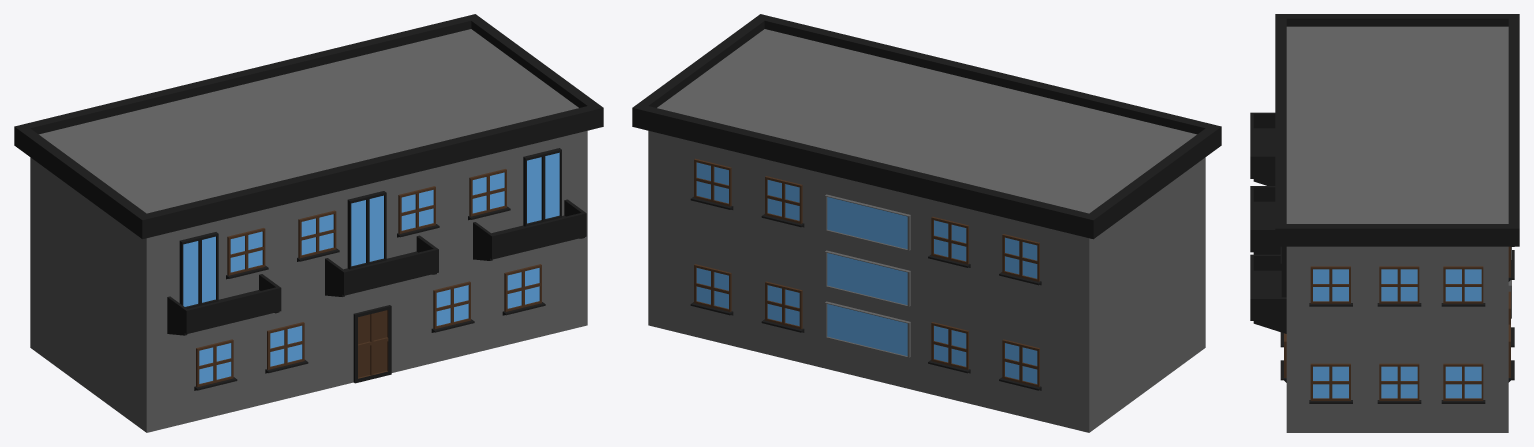
The model's file is cityasset_house_12.fbx.
3 views of the same model, side by side, from view 1: azimuth 30°, elevation 25°; view 2: azimuth 150°, elevation 25°; view 3: azimuth 270°, elevation 25° (orthographic). The views are drawn at different scales.
Visible parts, largest first — view 1: Cube.002, Cube.003, Cube.001, Cube.008, Cube.007, Cube.011, Cube.005, Cube.009, Cube.013, Cube.012, Cube.015, Cube.016 (+4 smaller); view 2: Cube.002, Cube.006, Cube.035, Cube.034, Cube.026, Cube.031, Cube.027, Cube.028, Cube.029, Cube.033, Cube.030, Cube.032; view 3: Cube.002, Cube.008, Cube.003, Cube.001, Cube.024, Cube.025, Cube.021, Cube.022, Cube.023, Cube.020, Cube.005.
Part boxes in pixels (bbox=[...]): Cube.002: bbox=[14, 14, 603, 432]; Cube.003: bbox=[167, 274, 281, 335]; Cube.001: bbox=[325, 235, 438, 296]; Cube.008: bbox=[473, 199, 586, 260]; Cube.007: bbox=[347, 191, 386, 269]; Cube.011: bbox=[179, 232, 218, 308]; Cube.005: bbox=[523, 148, 561, 226]; Cube.009: bbox=[353, 305, 391, 383]; Cube.013: bbox=[297, 210, 339, 261]; Cube.012: bbox=[226, 228, 268, 279]; Cube.015: bbox=[265, 322, 308, 373]; Cube.016: bbox=[431, 281, 474, 332]; Cube.002: bbox=[632, 14, 1221, 432]; Cube.006: bbox=[825, 301, 910, 357]; Cube.035: bbox=[825, 194, 910, 250]; Cube.034: bbox=[825, 250, 910, 306]; Cube.026: bbox=[690, 264, 733, 315]; Cube.031: bbox=[761, 176, 804, 227]; Cube.027: bbox=[761, 281, 804, 332]; Cube.028: bbox=[928, 322, 970, 373]; Cube.029: bbox=[999, 339, 1041, 390]; Cube.033: bbox=[999, 234, 1041, 285]; Cube.030: bbox=[690, 158, 733, 209]; Cube.032: bbox=[928, 216, 970, 267]; Cube.002: bbox=[1275, 14, 1519, 432]; Cube.008: bbox=[1250, 254, 1286, 333]; Cube.003: bbox=[1250, 112, 1275, 185]; Cube.001: bbox=[1250, 186, 1280, 254]; Cube.024: bbox=[1377, 266, 1421, 306]; Cube.025: bbox=[1441, 266, 1485, 306]; Cube.021: bbox=[1377, 363, 1421, 403]; Cube.022: bbox=[1441, 363, 1485, 403]; Cube.023: bbox=[1309, 266, 1352, 306]; Cube.020: bbox=[1309, 363, 1352, 403]; Cube.005: bbox=[1281, 246, 1286, 297].
Bounding box in the file's own units: 457 × 208 × 243.
